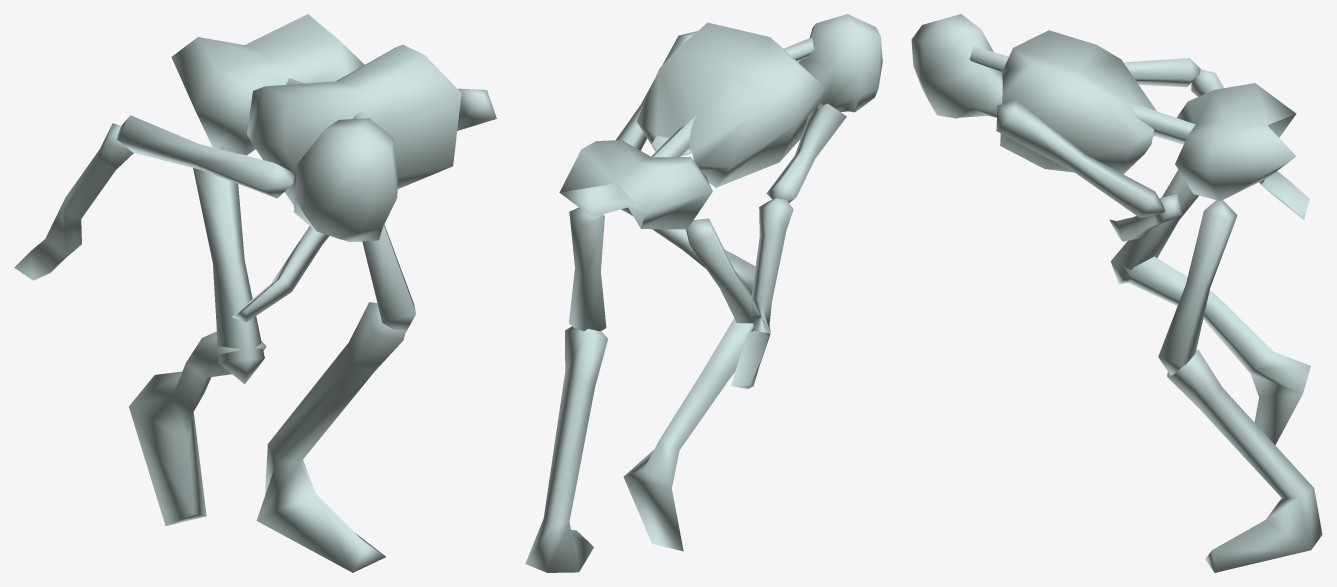
The picture shows the model from 3 angles, left to right: view 1: azimuth 30°, elevation 25°; view 2: azimuth 150°, elevation 25°; view 3: azimuth 270°, elevation 25°; orthographic projection. The views are drawn at different scales.
Parts seen in each view (by area): view 1: Object70; view 2: Object70; view 3: Object70.
Boxes of the visible parts, <box> form: Object70: <box>14,14,496,572</box>; Object70: <box>525,14,882,572</box>; Object70: <box>911,14,1322,572</box>.
Size of the model in its own units: 6761 by 12228 by 9499.
